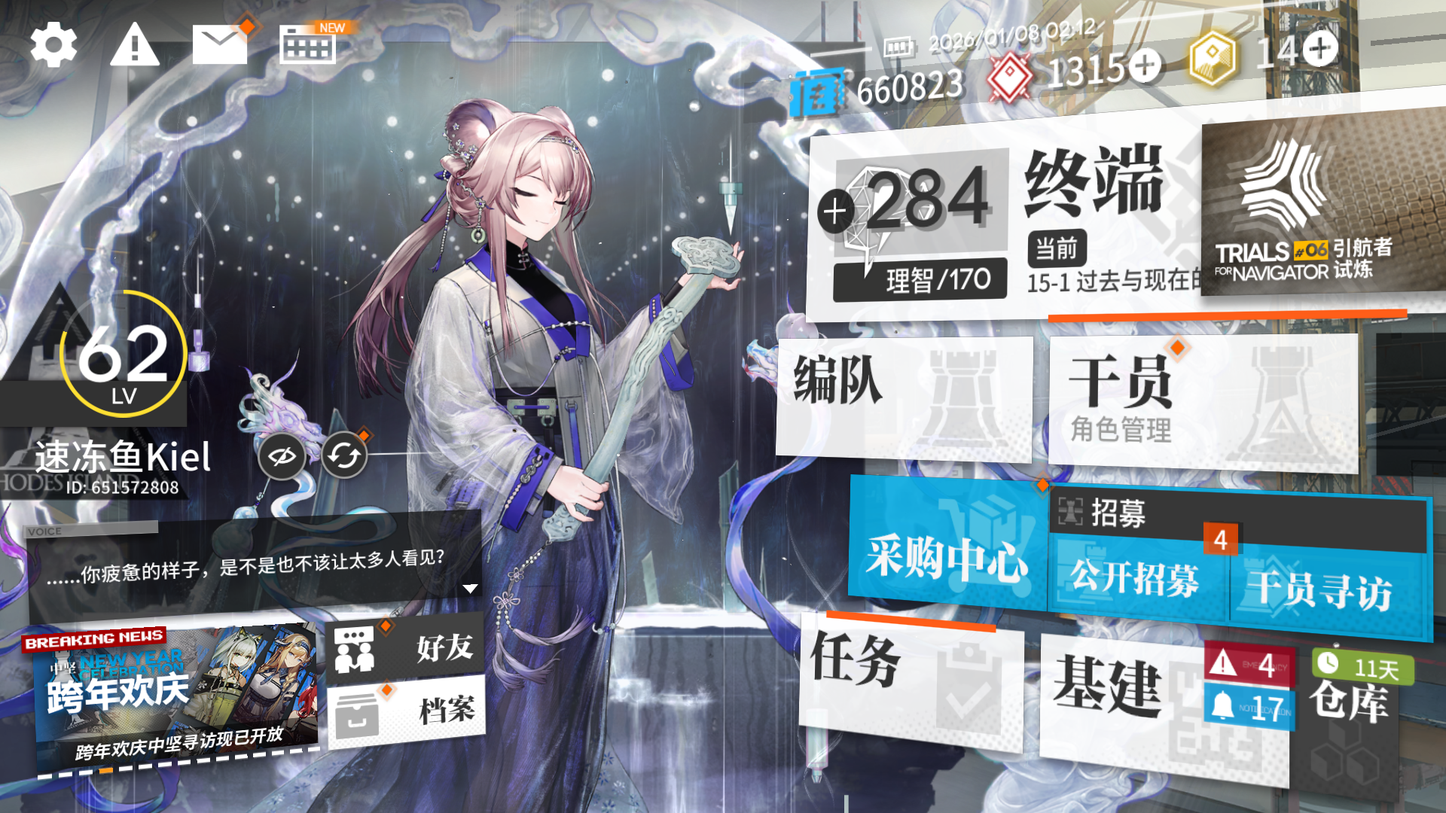home_button: (1014, 129, 1194, 248)
infrastructure_button: (1048, 633, 1286, 759)
